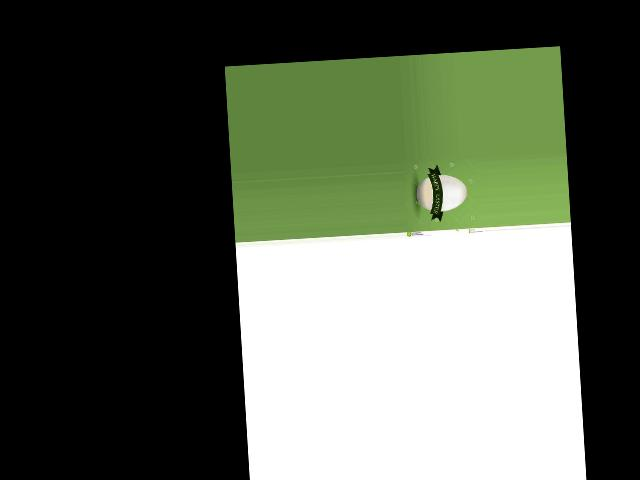egg: (415, 174, 468, 213)
